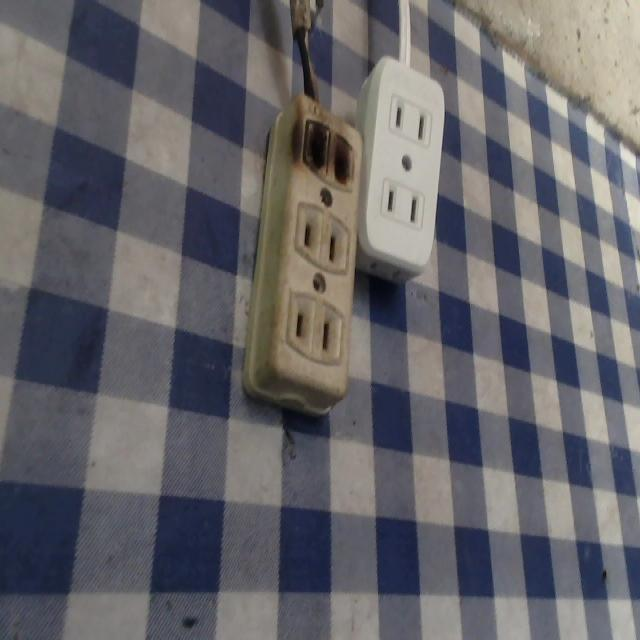-: (291, 101, 364, 199)
